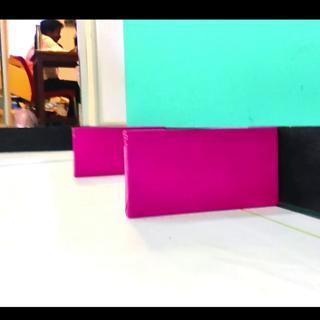xparking: (125, 130, 277, 219), (74, 128, 122, 178)
